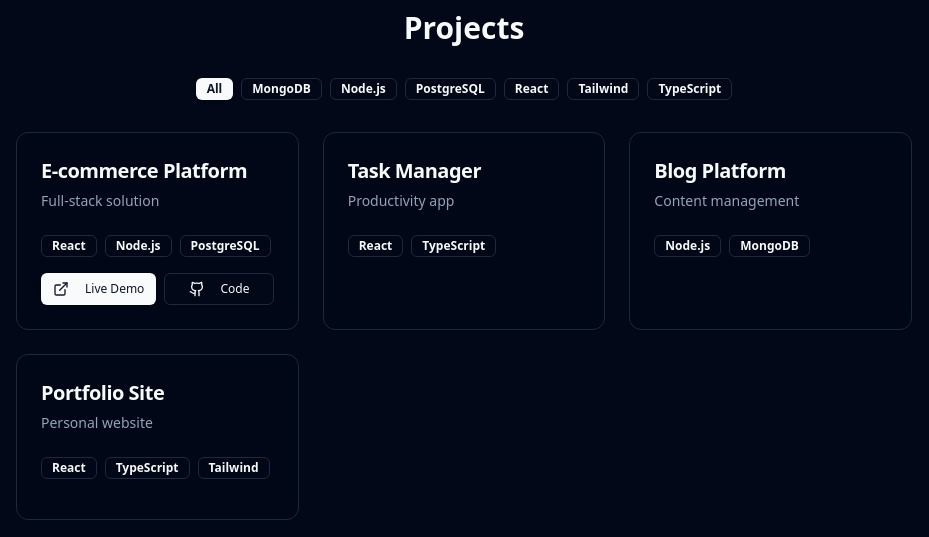
Test: Projects User Flow › allows filtering projects by technology
Check: the text "E-commerce Platform" is shown, box [41, 157, 247, 185]
Check: the text "Task Manager" is shown, box [348, 157, 481, 185]
Note: Filter by React - use getAllByText and select the filter button (first one)
Click the text "React" in the row of "All": (532, 89) [504, 78, 559, 100]
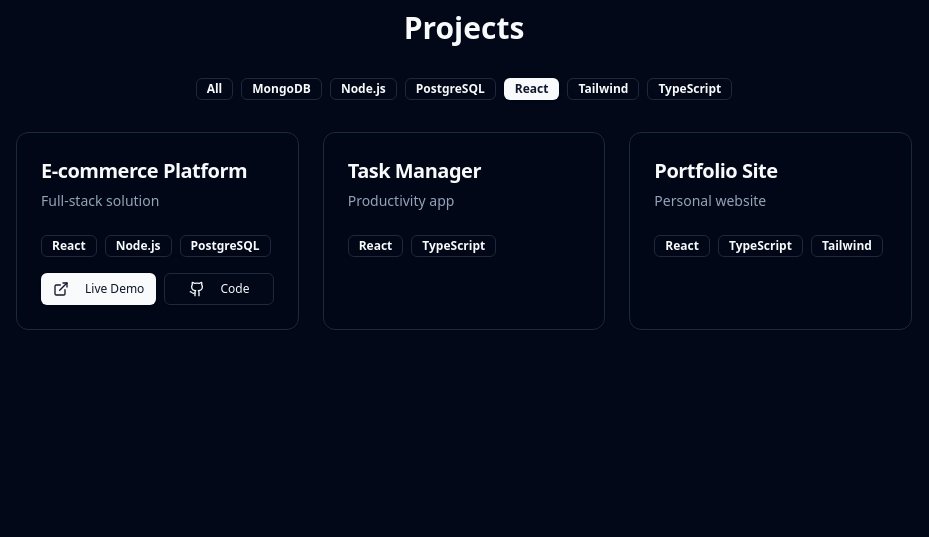
Check: the text "E-commerce Platform" is shown, box [41, 157, 247, 185]
Check: the text "Blog Platform" is gone
